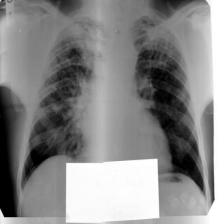tuberculosis: (13, 6, 212, 204)
